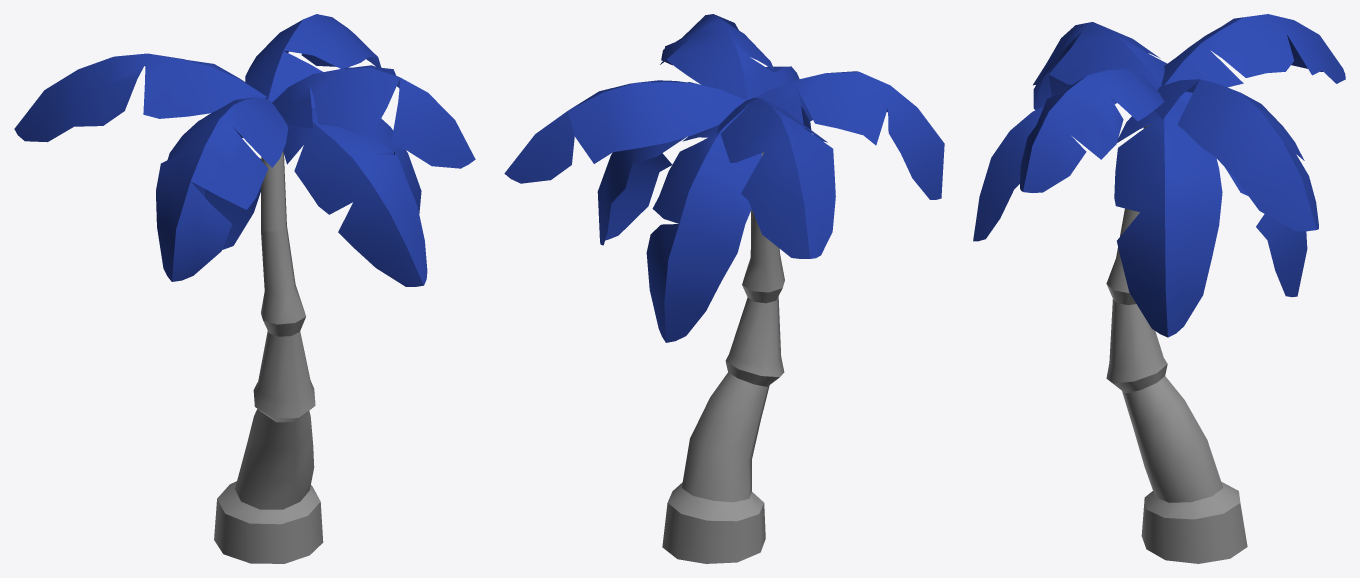
File: Palm_01_mm.fbx
3 renders of one model, left to right at view 1: azimuth 30°, elevation 25°; view 2: azimuth 150°, elevation 25°; view 3: azimuth 270°, elevation 25°, orthographic. The views are drawn at different scales.
Parts seen in each view (by area): view 1: Palm_01; view 2: Palm_01; view 3: Palm_01.
Boxes of the visible parts, bbox=[...] form: Palm_01: bbox=[14, 14, 475, 563]; Palm_01: bbox=[504, 14, 944, 563]; Palm_01: bbox=[973, 14, 1345, 563].
Bounding box in the file's own units: 291 × 411 × 284.
